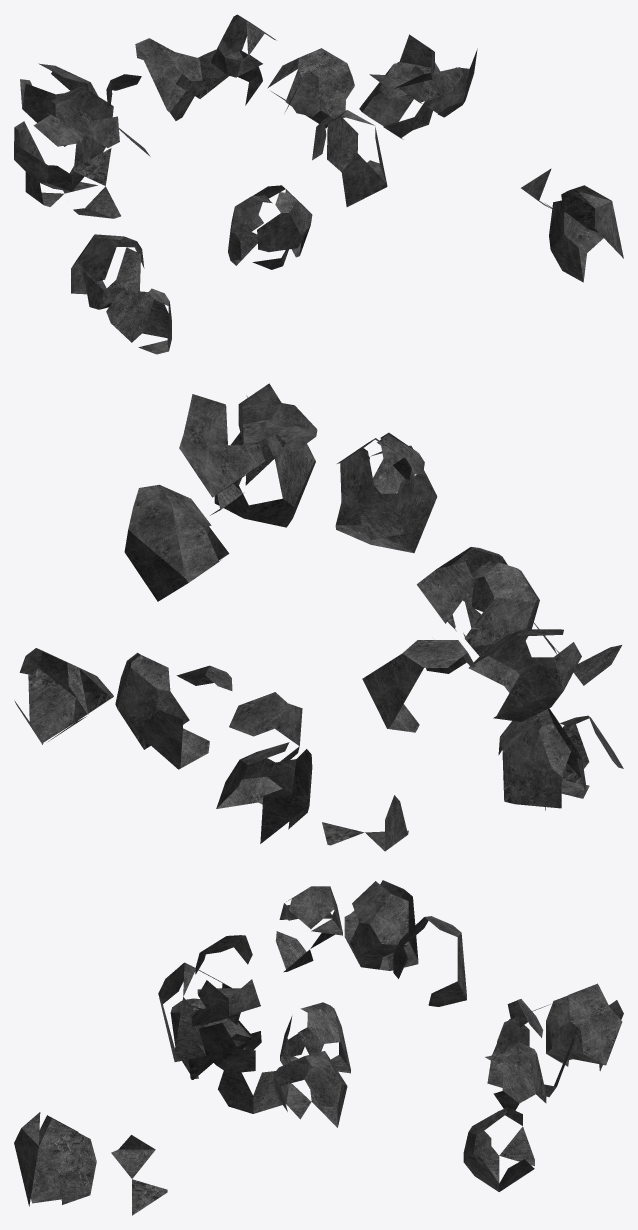
The model's file is Stone18.obj.
The picture shows the model from 3 angles, top to bottom: view 1: azimuth 30°, elevation 25°; view 2: azimuth 150°, elevation 25°; view 3: azimuth 270°, elevation 25°; orthographic projection. The views are drawn at different scales.
Parts seen in each view (by area): view 1: Object015; view 2: Object015; view 3: Object015.
Boxes of the visible parts, x1,y1,x2,y2 form: Object015: (14, 14, 623, 354); Object015: (14, 383, 623, 851); Object015: (14, 880, 623, 1215).
Bounding box in the file's own units: 534 × 313 × 619.
1 material, 1 textured.
